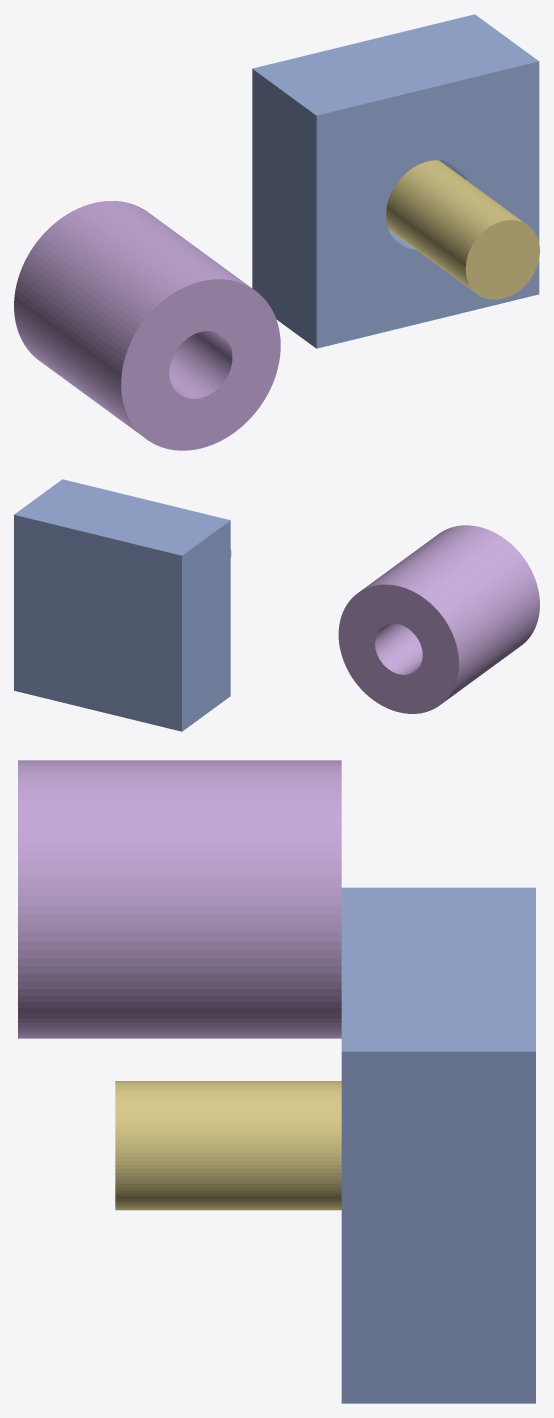
File: pins_and_posts_demo.glb
The picture shows the model from 3 angles, top to bottom: view 1: azimuth 30°, elevation 25°; view 2: azimuth 150°, elevation 25°; view 3: azimuth 270°, elevation 25°; orthographic projection. The views are drawn at different scales.
Visible parts, largest first — view 1: socket_block, screw_post, fix_pin; view 2: socket_block, screw_post; view 3: socket_block, screw_post, fix_pin.
Boxes of the visible parts, bbox=[...] form: socket_block: bbox=[252, 14, 539, 348]; screw_post: bbox=[14, 201, 280, 450]; fix_pin: bbox=[386, 160, 539, 299]; socket_block: bbox=[14, 479, 230, 731]; screw_post: bbox=[338, 525, 539, 713]; socket_block: bbox=[341, 887, 535, 1403]; screw_post: bbox=[18, 760, 341, 1038]; fix_pin: bbox=[115, 1081, 341, 1210].
Bounding box in the file's own units: 28.3 × 12 × 16.
